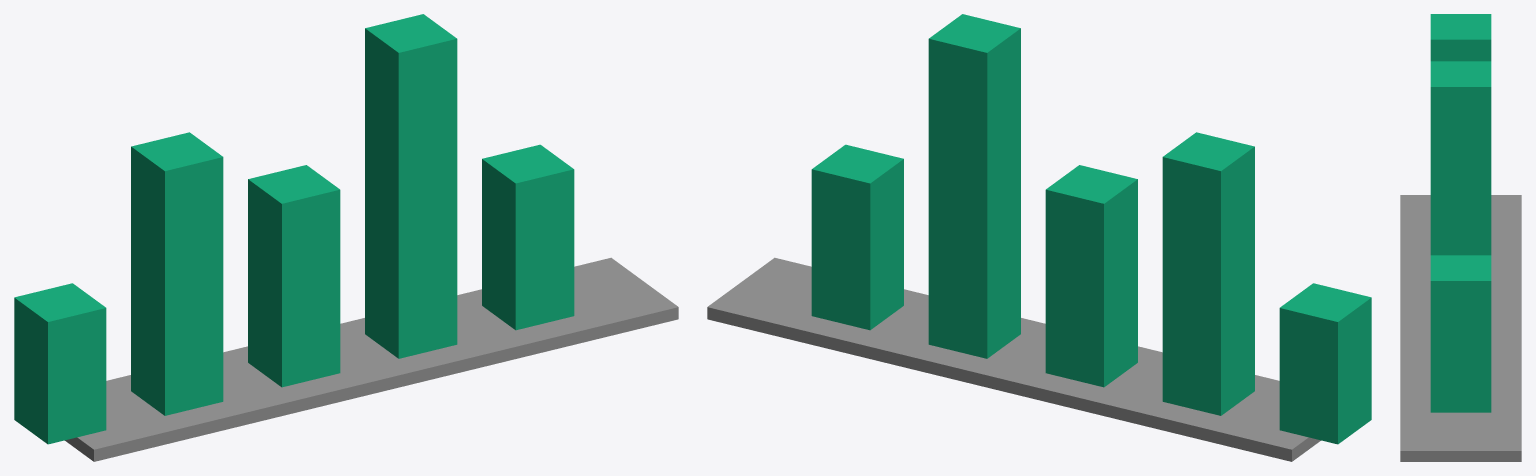
Rendered from bar_chart.glb.
3 renders of one model, left to right at view 1: azimuth 30°, elevation 25°; view 2: azimuth 150°, elevation 25°; view 3: azimuth 270°, elevation 25°, orthographic. The views are drawn at different scales.
Bounding box in the file's own units: 5.25 × 2.6 × 1.
